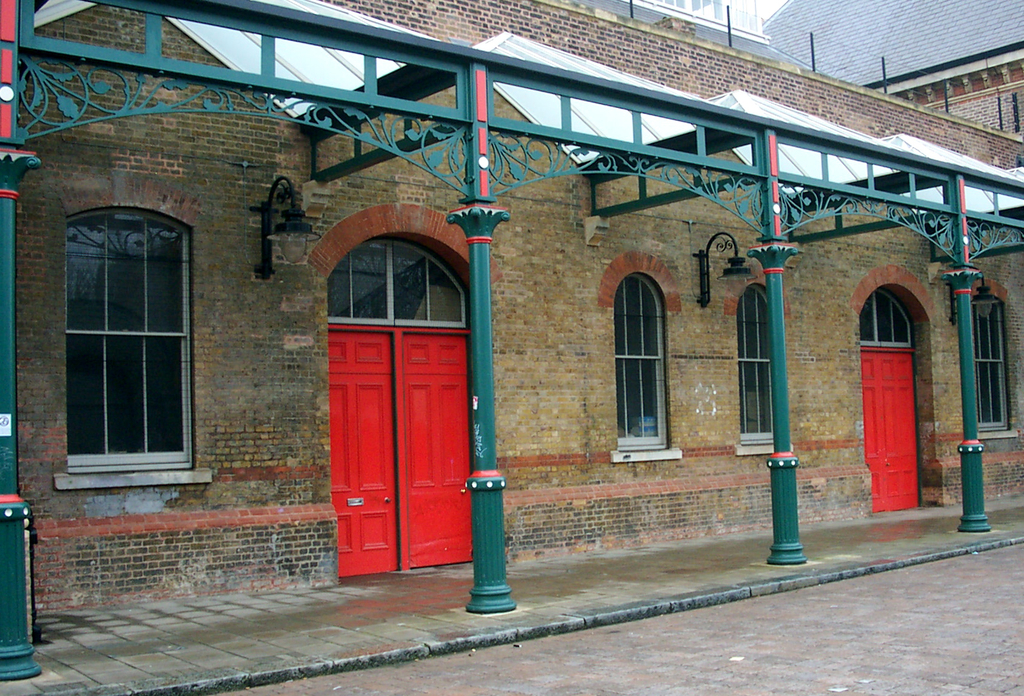door: (324, 335, 392, 566), (406, 343, 479, 550), (861, 360, 913, 507)
